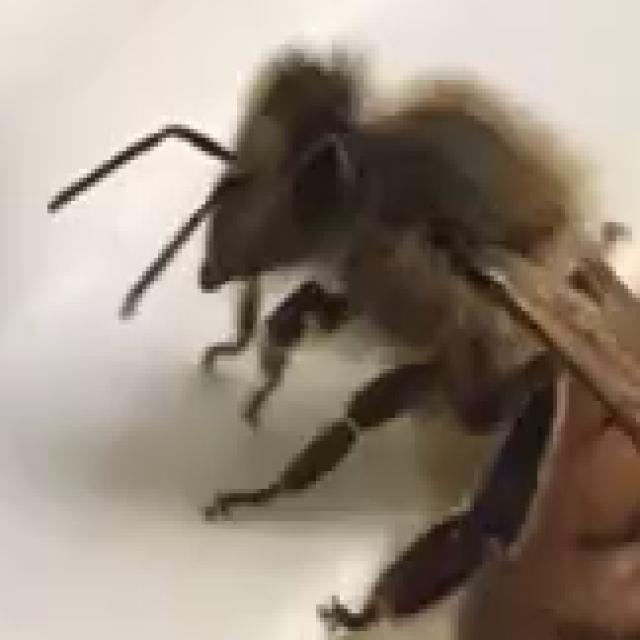honeybee: (36, 72, 640, 635)
